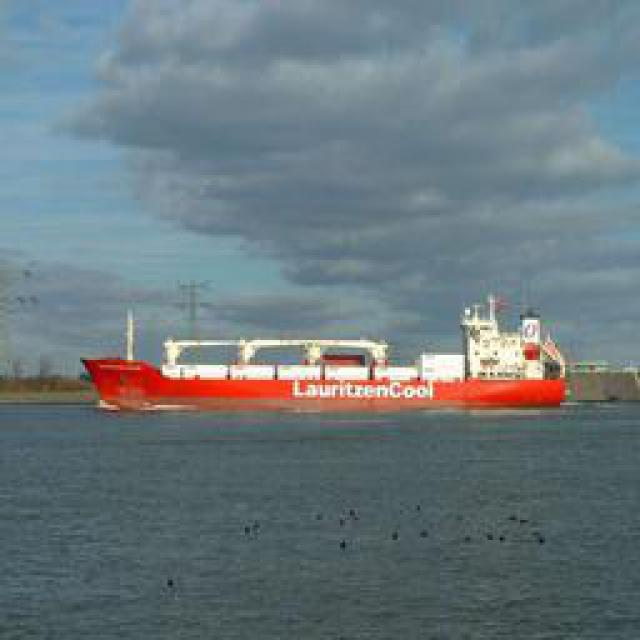Ship: (80, 309, 583, 414)
